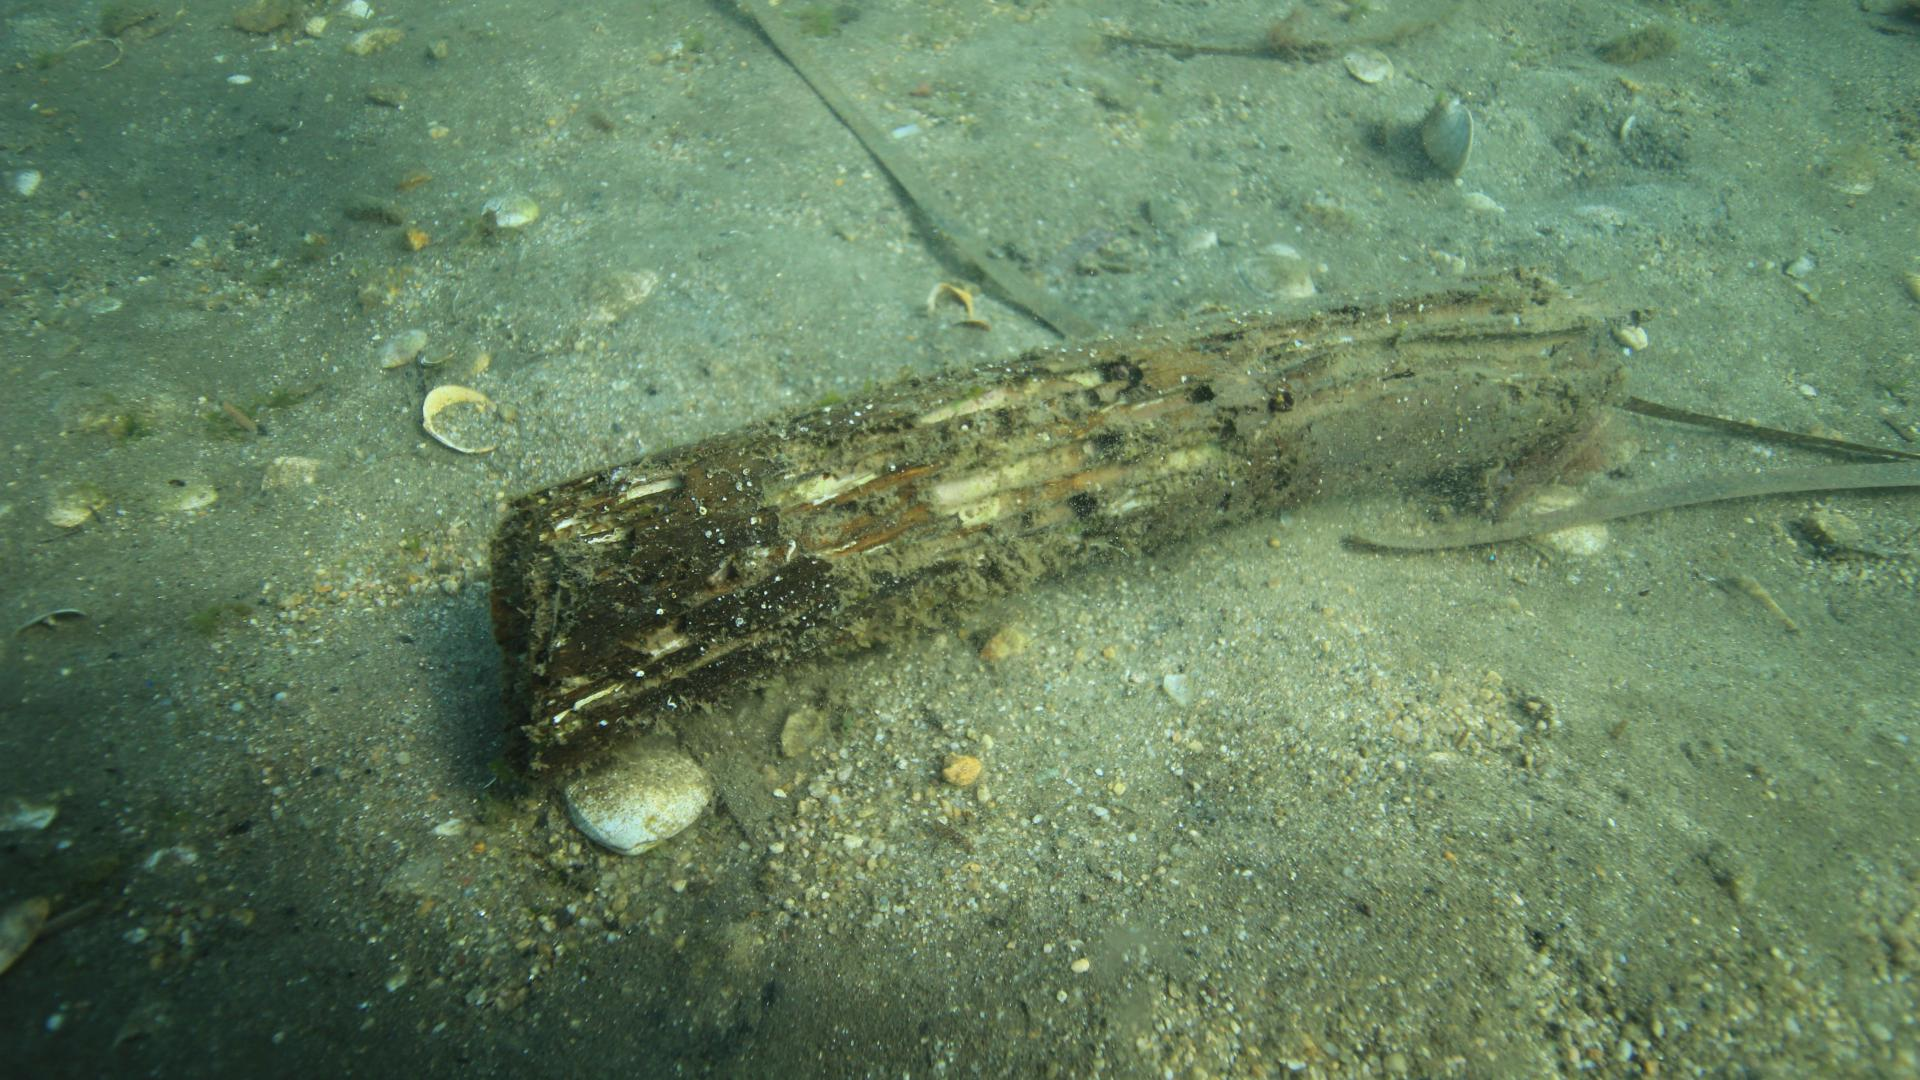wood: (489, 264, 1621, 775)
